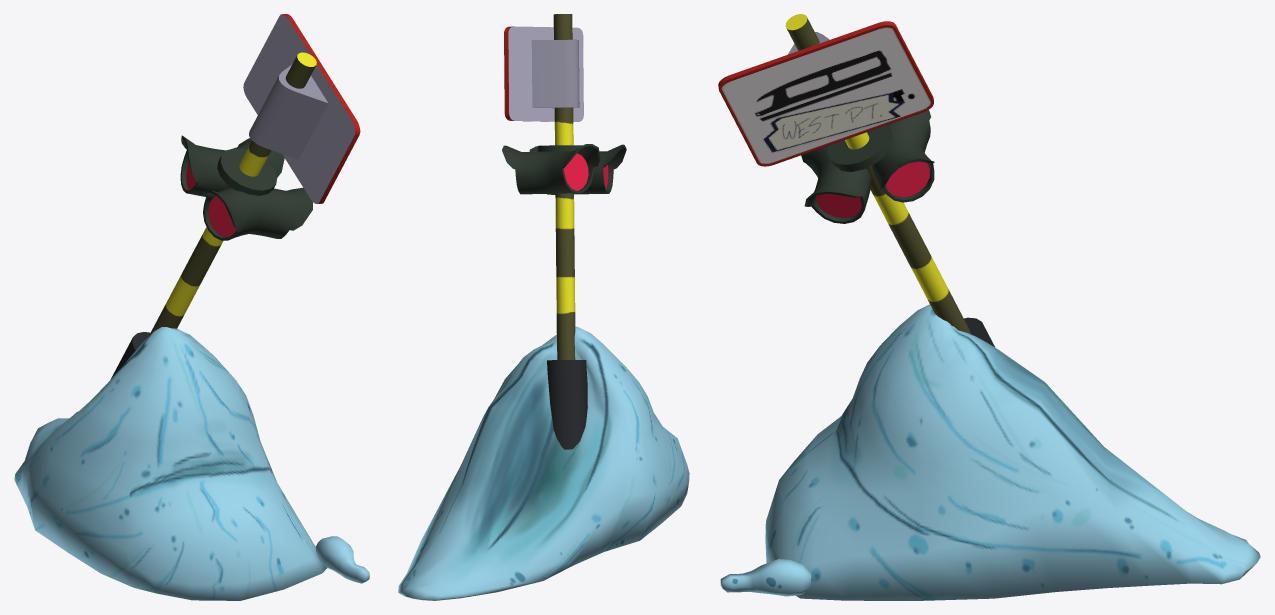
File: WESTts.fbx
3 views of the same model, side by side, from view 1: azimuth 30°, elevation 25°; view 2: azimuth 150°, elevation 25°; view 3: azimuth 270°, elevation 25° (orthographic). The views are drawn at different scales.
Parts seen in each view (by area): view 1: sand, sign.001, lights.002, mainpole.001, signholder.001; view 2: sand, mainpole.001, lights.002, sign.001, signholder.001; view 3: sand, sign.001, lights.002, mainpole.001.
Boxes of the visible parts, box(x1,y1,x2,y2) form: sand: box(14, 327, 369, 600); sign.001: box(243, 14, 360, 203); lights.002: box(180, 135, 312, 240); mainpole.001: box(111, 52, 316, 378); signholder.001: box(249, 64, 328, 159); sand: box(398, 326, 689, 600); mainpole.001: box(537, 14, 587, 449); lights.002: box(502, 144, 626, 194); sign.001: box(504, 26, 583, 121); signholder.001: box(531, 39, 579, 108); sand: box(720, 304, 1260, 600); sign.001: box(718, 21, 933, 166); lights.002: box(801, 110, 934, 223); mainpole.001: box(785, 14, 994, 346).
Size of the model in its own units: 110 by 241 by 204.
